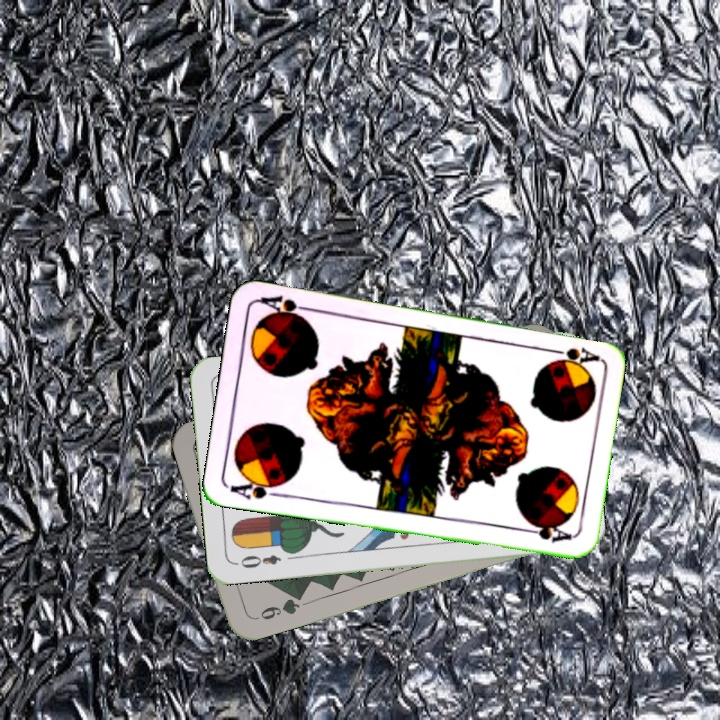EO: (232, 551, 284, 571)
G9: (248, 592, 305, 624)
SA: (227, 474, 288, 502), (541, 342, 600, 365)
